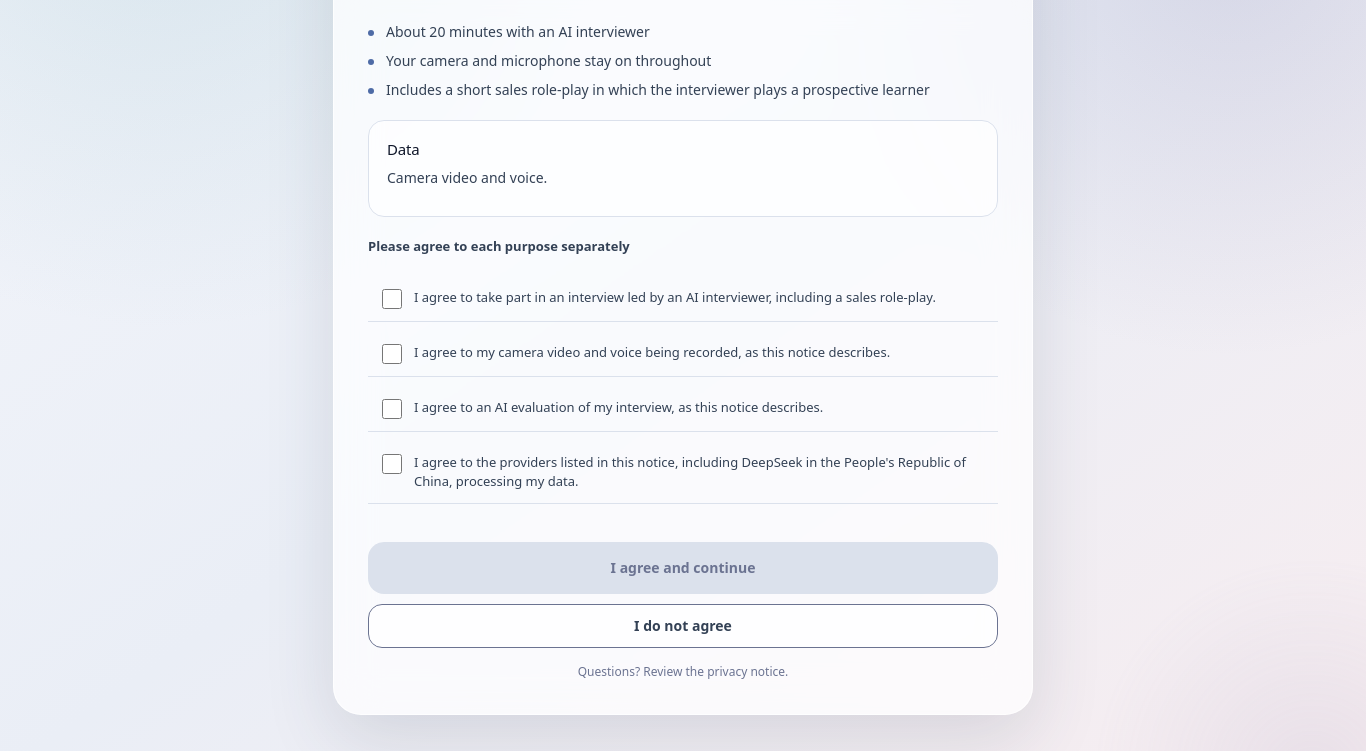
notice and consent › records a decline, offers a person instead, and never reaches the device check
(page scrolled)
Click the button "I do not agree" at (683, 626), box [368,604,998,648]
(page scrolled)
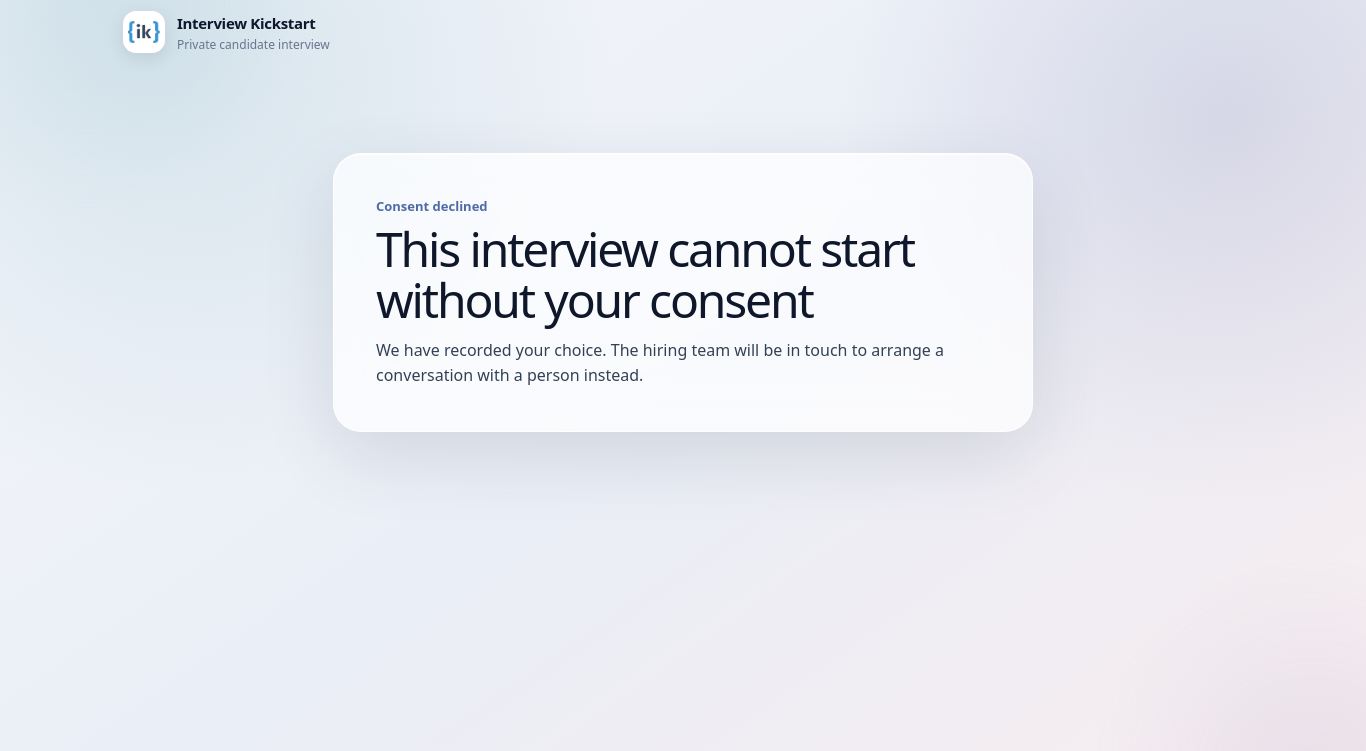
Result: the heading "This interview cannot start without your consent" is shown at [376,224,990,326]
Result: the text "conversation with a person instead" is shown at [376,339,944,386]
